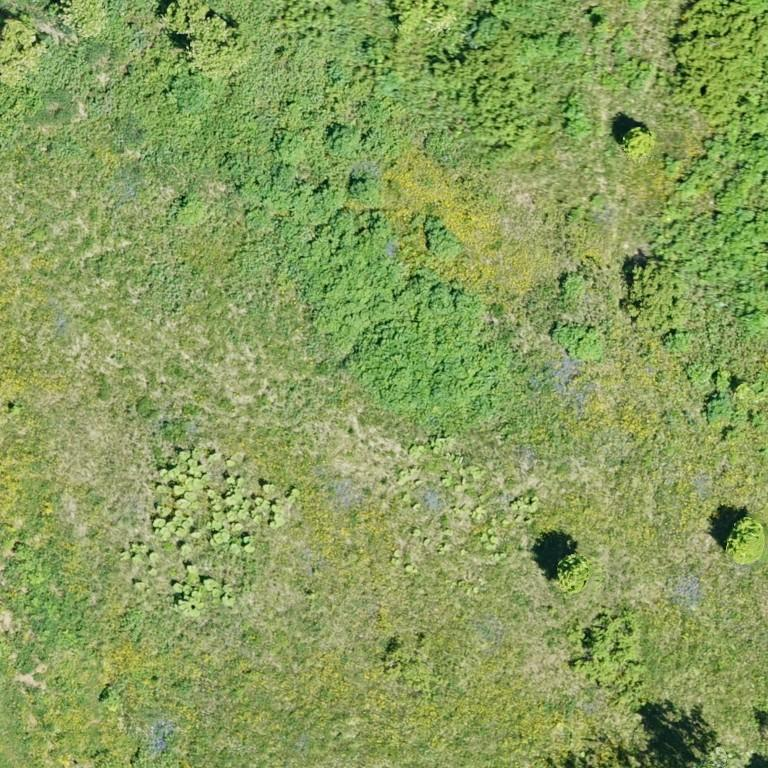hogweed: (241, 133, 520, 418), (553, 322, 603, 363), (167, 74, 215, 114), (425, 217, 460, 261), (706, 392, 731, 422)
